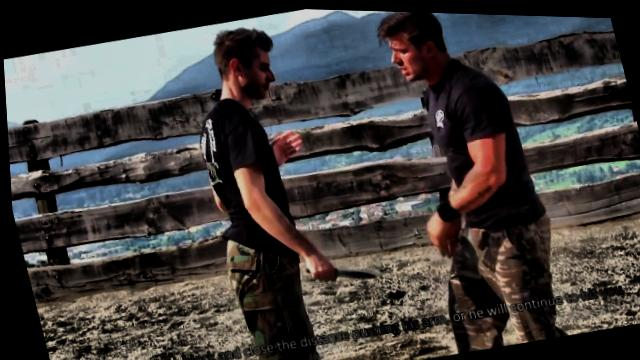knife: (297, 244, 383, 292)
